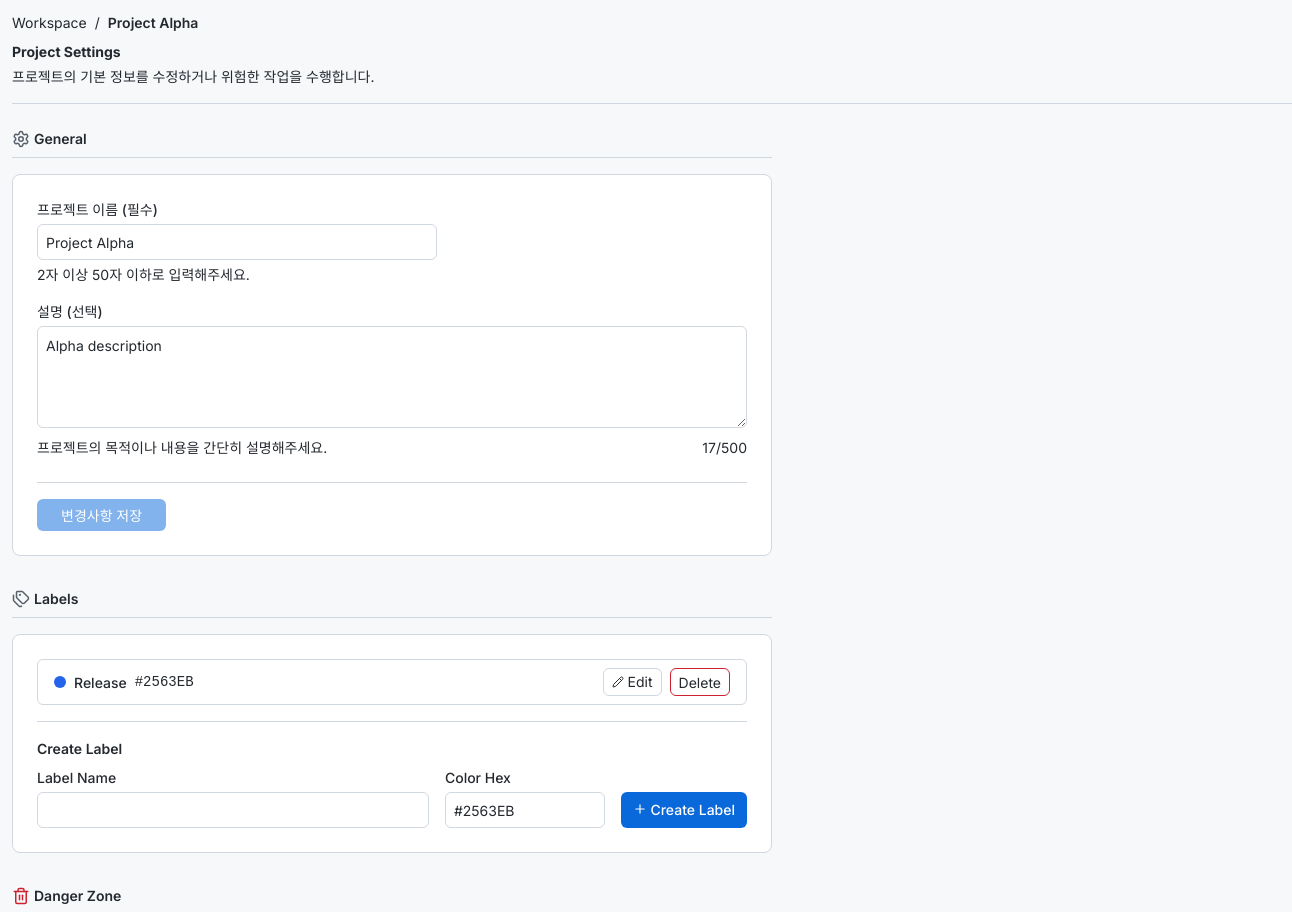
Scenario: ProjectSettingsPage › clears label editor state after deleting the label being edited
The width and height of the screenshot is (1292, 912).
Check: the text "Release" is shown, box [74, 672, 127, 692]
Click the button with aria-label "Edit label Release": (632, 682) [603, 668, 662, 696]
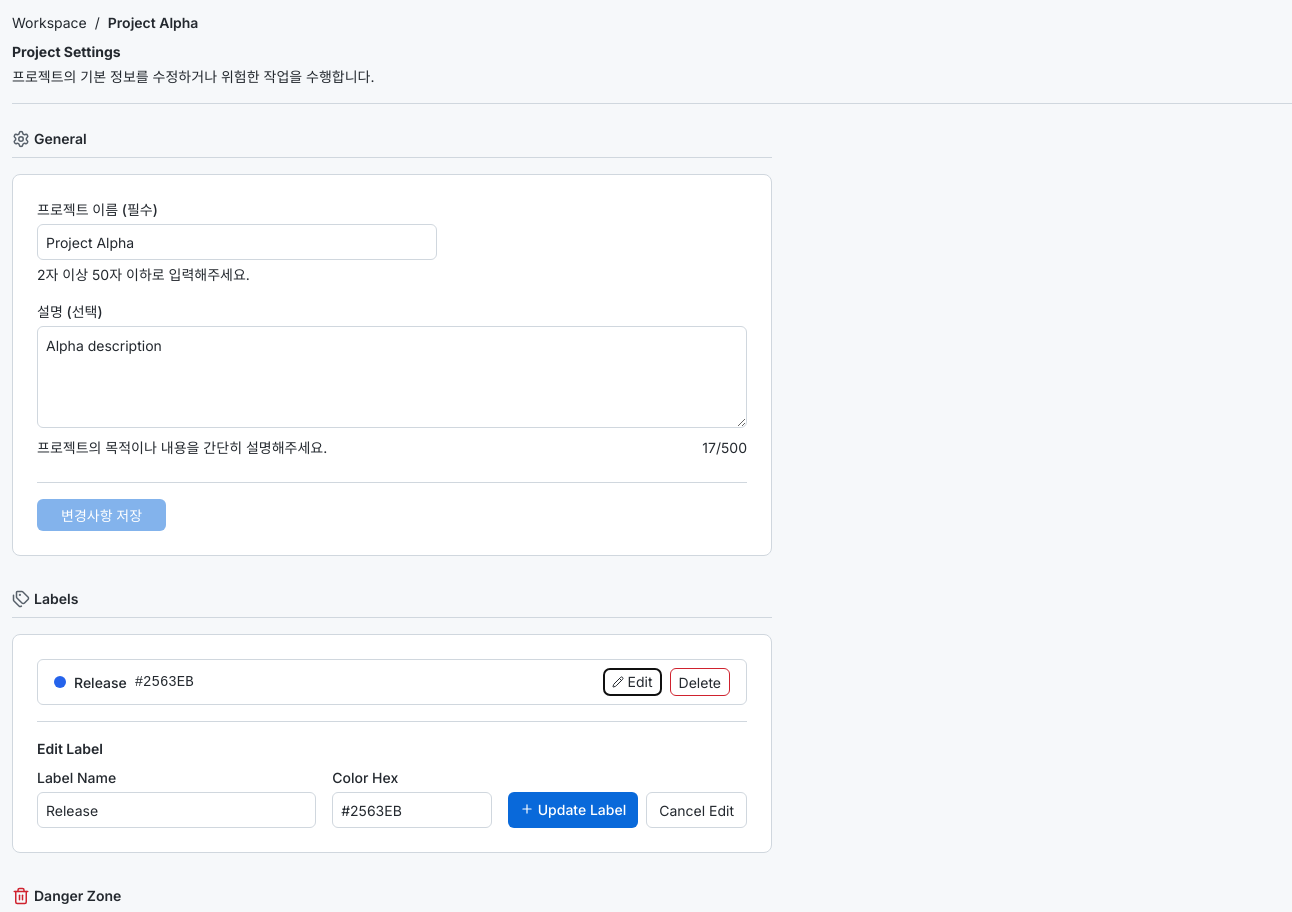
Check: the button "Update Label" is shown, box [508, 792, 638, 828]
Check: the field labelled "Label Name" holds "Release", box [37, 792, 316, 828]
Click the button with aria-label "Delete label Release": (700, 682) [670, 668, 730, 696]
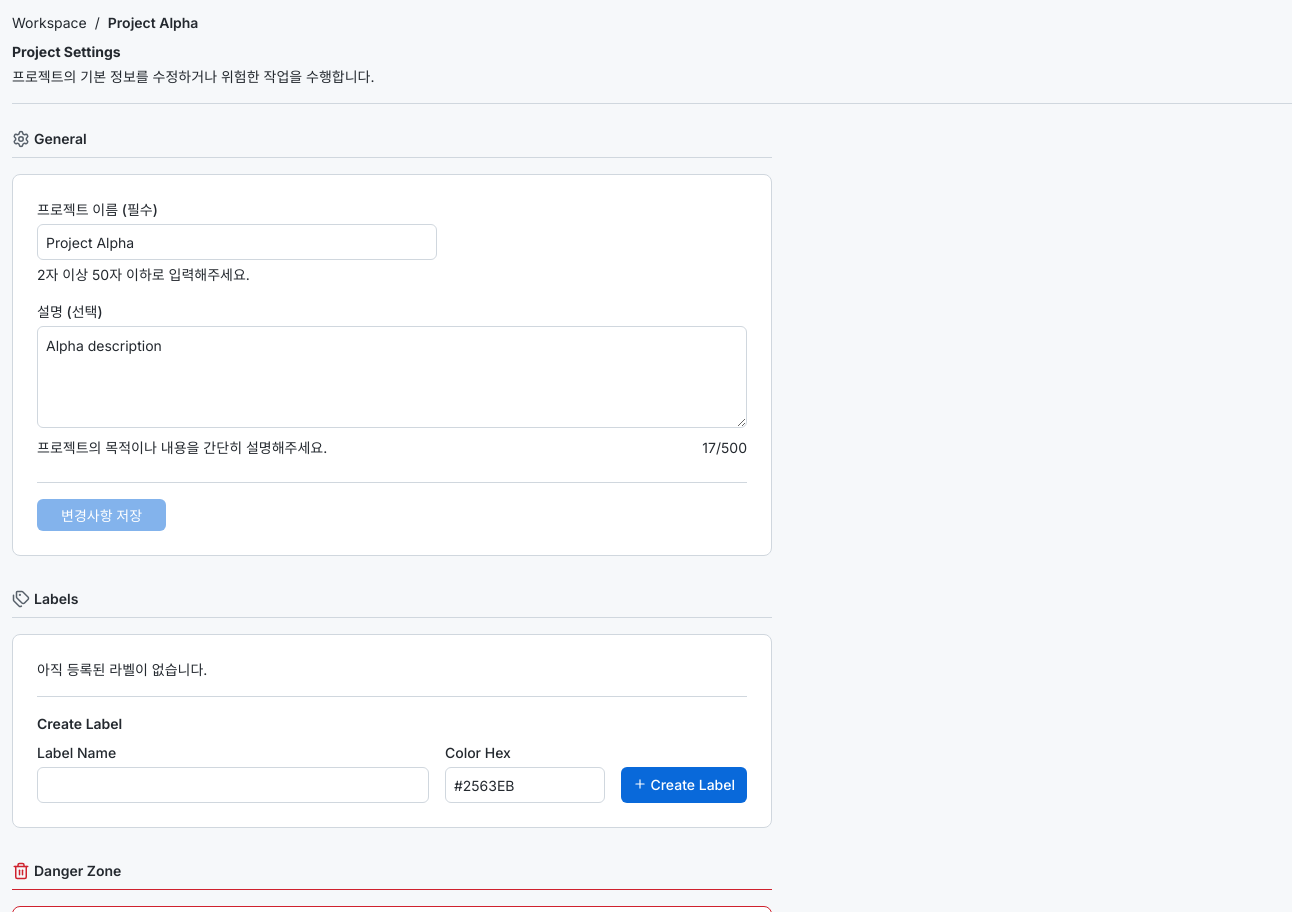
Check: the button "Create Label" is shown, box [621, 767, 747, 803]
Check: the button "Update Label" is gone
Check: the field labelled "Label Name" is empty, box [37, 767, 429, 803]
